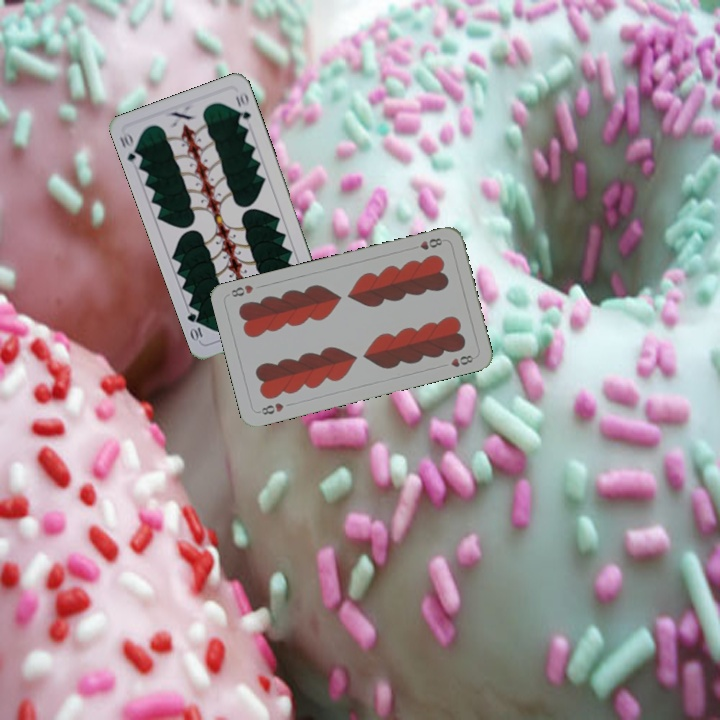G10: (115, 129, 145, 166)
H8: (254, 398, 286, 417), (416, 234, 445, 252)
